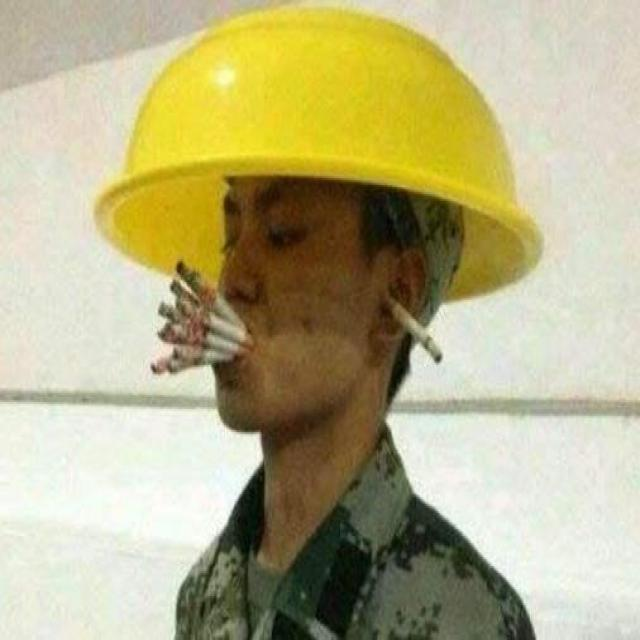Сигарета: (180, 262, 243, 330), (394, 307, 441, 361), (148, 342, 230, 370), (198, 309, 250, 346)
